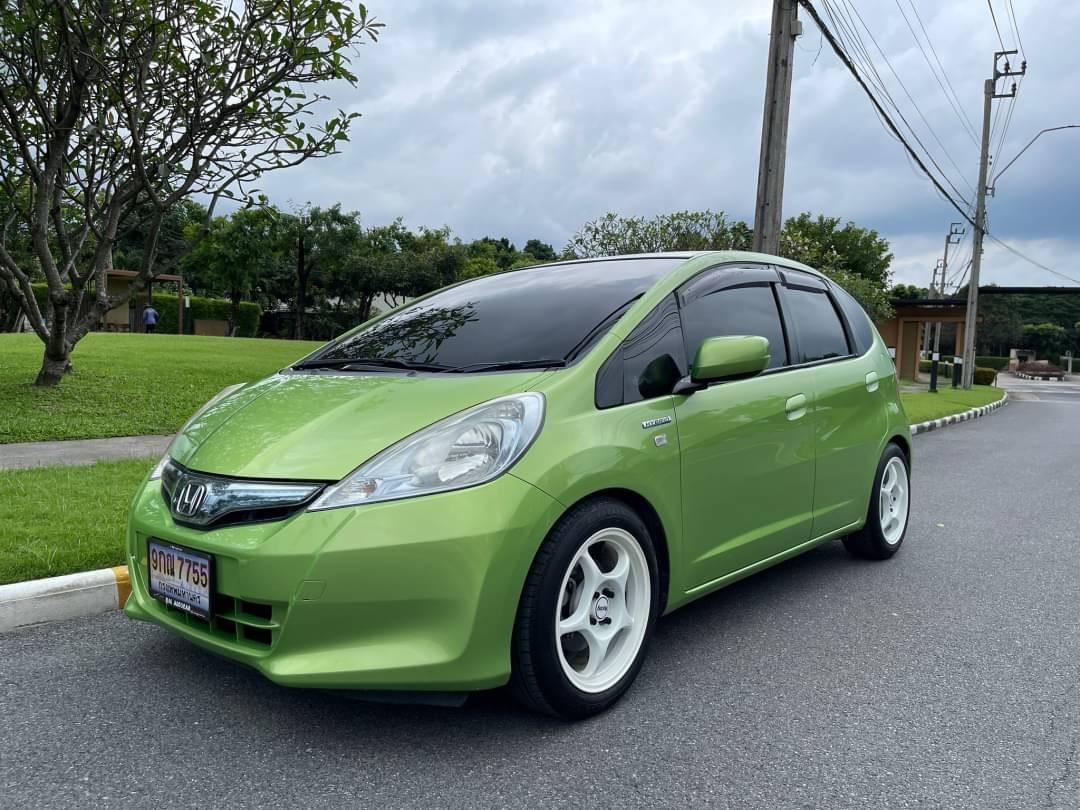license-plate: (145, 536, 221, 624)
